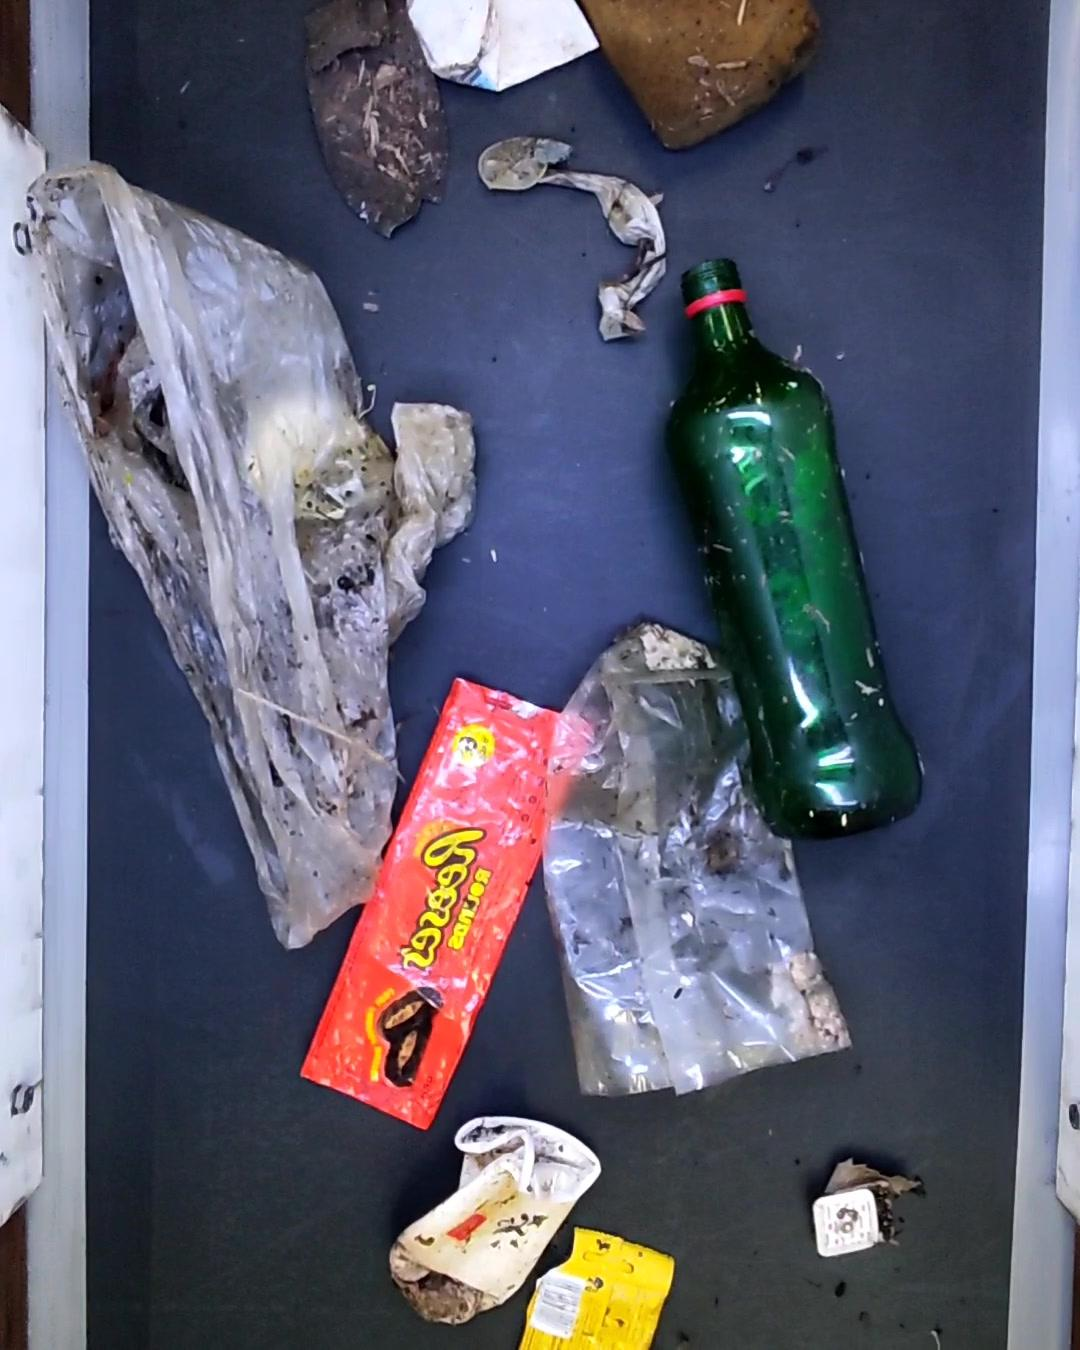Plastic folies of stukken daarvan 2.5- 50 cm: (31, 170, 474, 931), (543, 618, 844, 1103)
Snoep snack en chips verpakkingen: (301, 676, 576, 1133), (519, 1227, 669, 1350)
